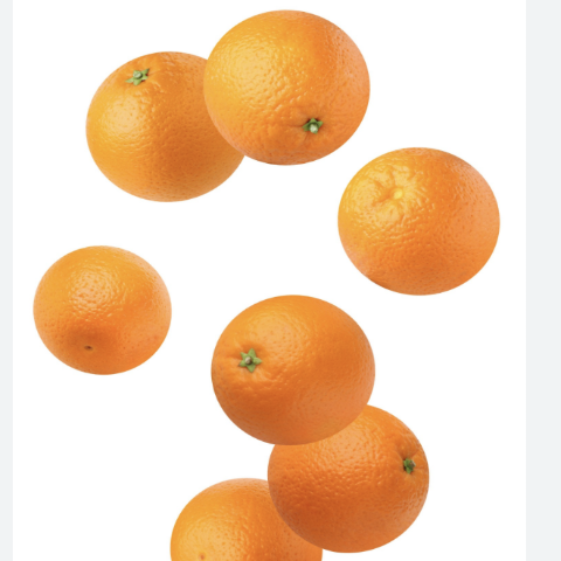orange: (194, 0, 380, 172), (329, 145, 513, 318), (252, 397, 455, 553), (75, 45, 258, 205), (200, 292, 380, 451), (30, 235, 172, 381), (160, 462, 325, 561)
